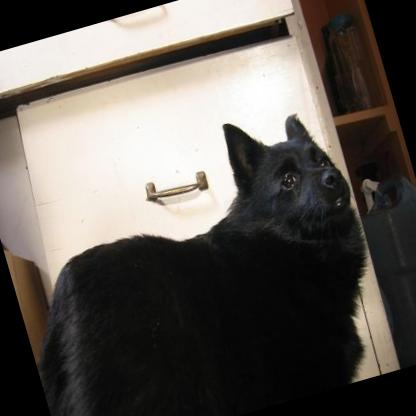schipperke: (0, 96, 413, 416)
